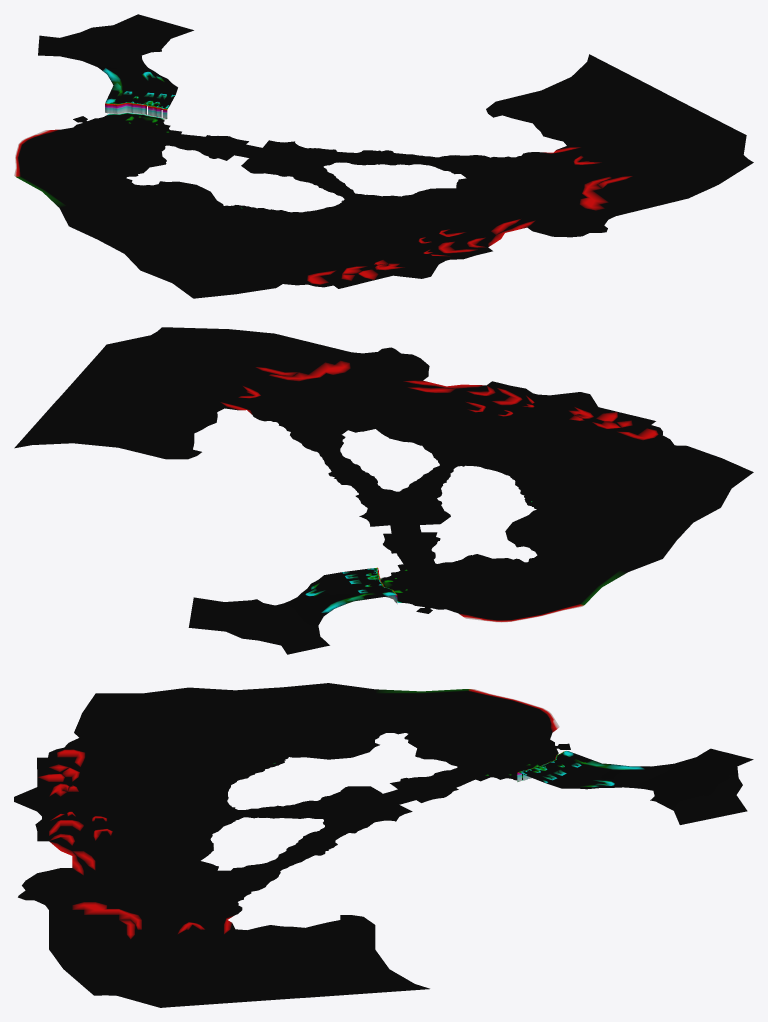
3 views of the same model, one above another, from view 1: azimuth 30°, elevation 25°; view 2: azimuth 150°, elevation 25°; view 3: azimuth 270°, elevation 25° (orthographic). The views are drawn at different scales.
Parts seen in each view (by area): view 1: G:\FFXIV-MapTools\exports\e3f2\bg\ex2\02_est_e3\fld\e3f2\bgp (×2); view 2: G:\FFXIV-MapTools\exports\e3f2\bg\ex2\02_est_e3\fld\e3f2\bgp (×2); view 3: G:\FFXIV-MapTools\exports\e3f2\bg\ex2\02_est_e3\fld\e3f2\bgp (×2).
Boxes of the visible parts, left/top/right/bottom form: G:\FFXIV-MapTools\exports\e3f2\bg\ex2\02_est_e3\fld\e3f2\bgp (×2): left=14, top=14, right=753, bottom=298; G:\FFXIV-MapTools\exports\e3f2\bg\ex2\02_est_e3\fld\e3f2\bgp (×2): left=14, top=327, right=753, bottom=654; G:\FFXIV-MapTools\exports\e3f2\bg\ex2\02_est_e3\fld\e3f2\bgp (×2): left=14, top=683, right=753, bottom=1007.
Size of the model in its own units: 3300 by 54.22 by 3176.
